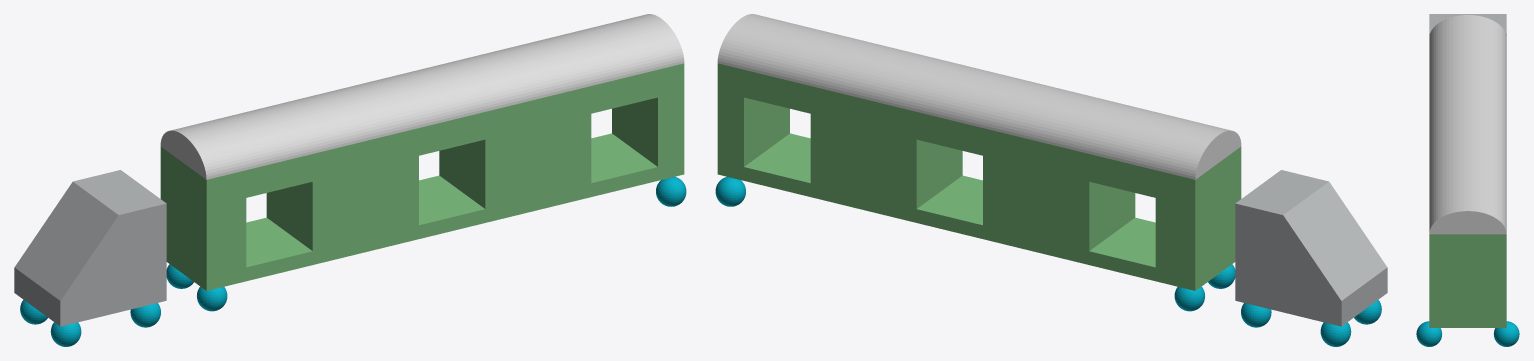
File: green train.glb
3 views of the same model, side by side, from view 1: azimuth 30°, elevation 25°; view 2: azimuth 150°, elevation 25°; view 3: azimuth 270°, elevation 25° (orthographic). The views are drawn at different scales.
Visible parts, largest first — view 1: Mesh_Mesh_head_geo.001_lambert2SG.001; view 2: Mesh_Mesh_head_geo.001_lambert2SG.001; view 3: Mesh_Mesh_head_geo.001_lambert2SG.001.
Boxes of the visible parts, x1,y1,x2,y2 form: Mesh_Mesh_head_geo.001_lambert2SG.001: (14,14,686,346); Mesh_Mesh_head_geo.001_lambert2SG.001: (715,14,1387,346); Mesh_Mesh_head_geo.001_lambert2SG.001: (1416,14,1519,346).
Size of the model in its own units: 47 by 12 by 8.
